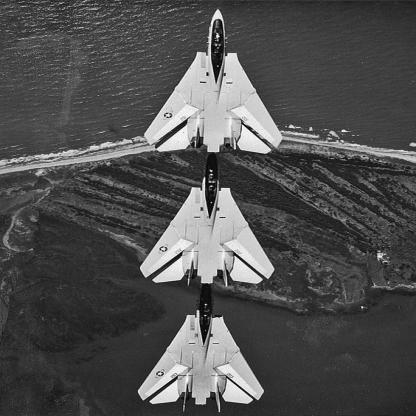F14: (144, 9, 284, 155), (141, 153, 276, 289), (137, 285, 266, 414)
